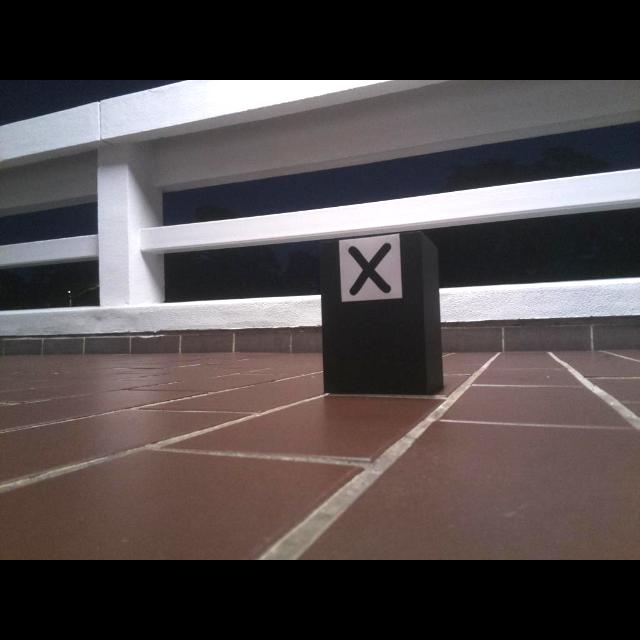X: (348, 243, 391, 295)
